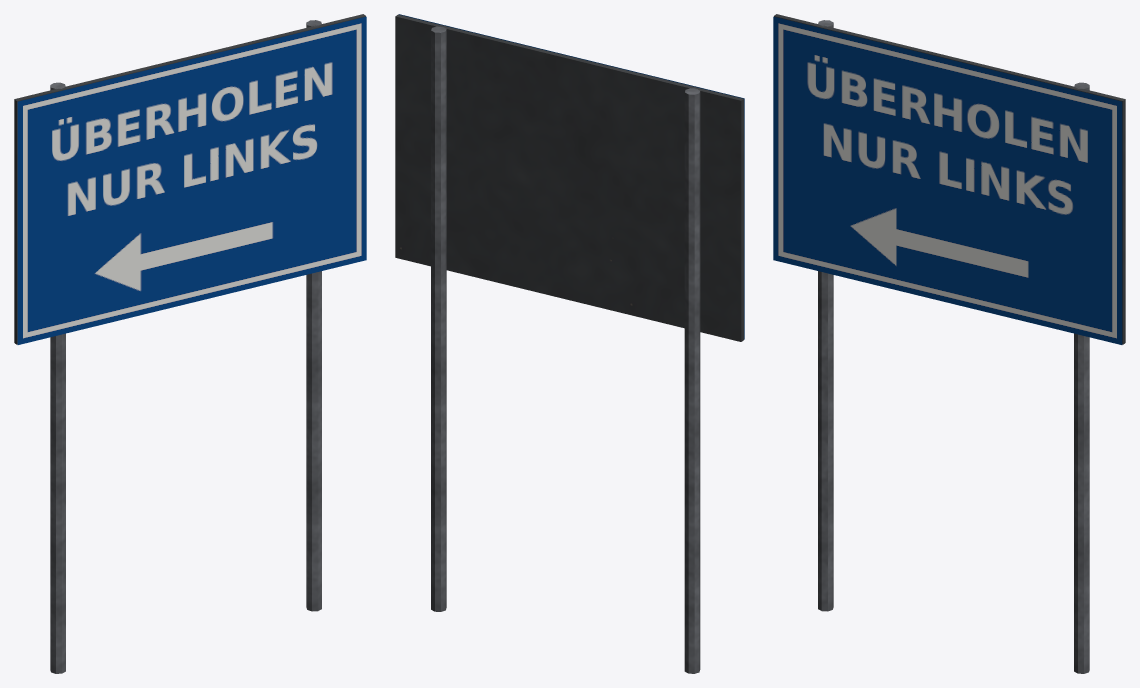
Rendered from de_overtake_left.glb.
The picture shows the model from 3 angles, left to right: view 1: azimuth 30°, elevation 25°; view 2: azimuth 150°, elevation 25°; view 3: azimuth 330°, elevation 25°; orthographic projection.
Visible parts, largest first — view 1: de_overtake_left; view 2: de_overtake_left; view 3: de_overtake_left.
Boxes of the visible parts, x1,y1,x2,y2 form: de_overtake_left: [14, 14, 366, 673]; de_overtake_left: [395, 14, 744, 673]; de_overtake_left: [773, 14, 1125, 673].
Bounding box in the file's own units: 1.5 × 2.4 × 0.075.
3 materials, 3 textured.
